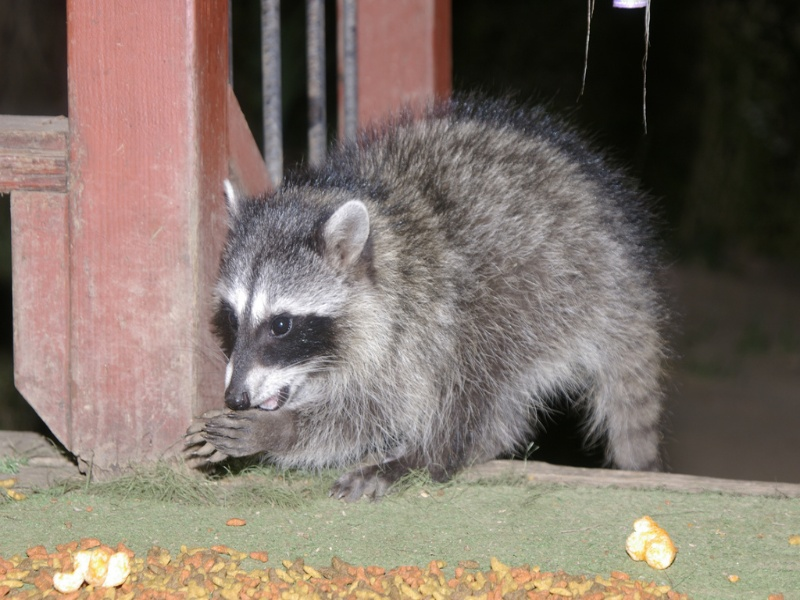raccoon: (181, 89, 674, 503)
